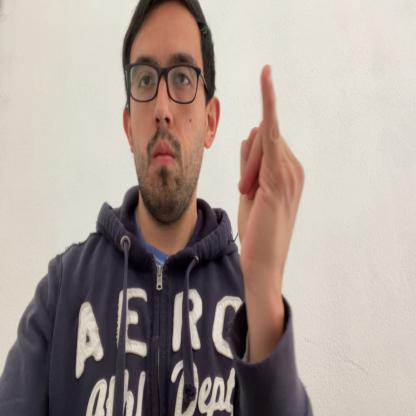I: (236, 63, 307, 298)
